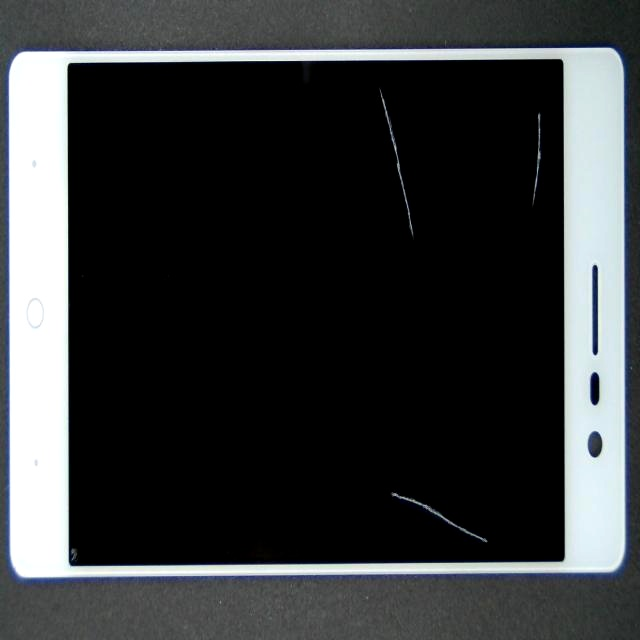scratch: (309, 293, 640, 640), (275, 0, 640, 200), (219, 72, 594, 149)
